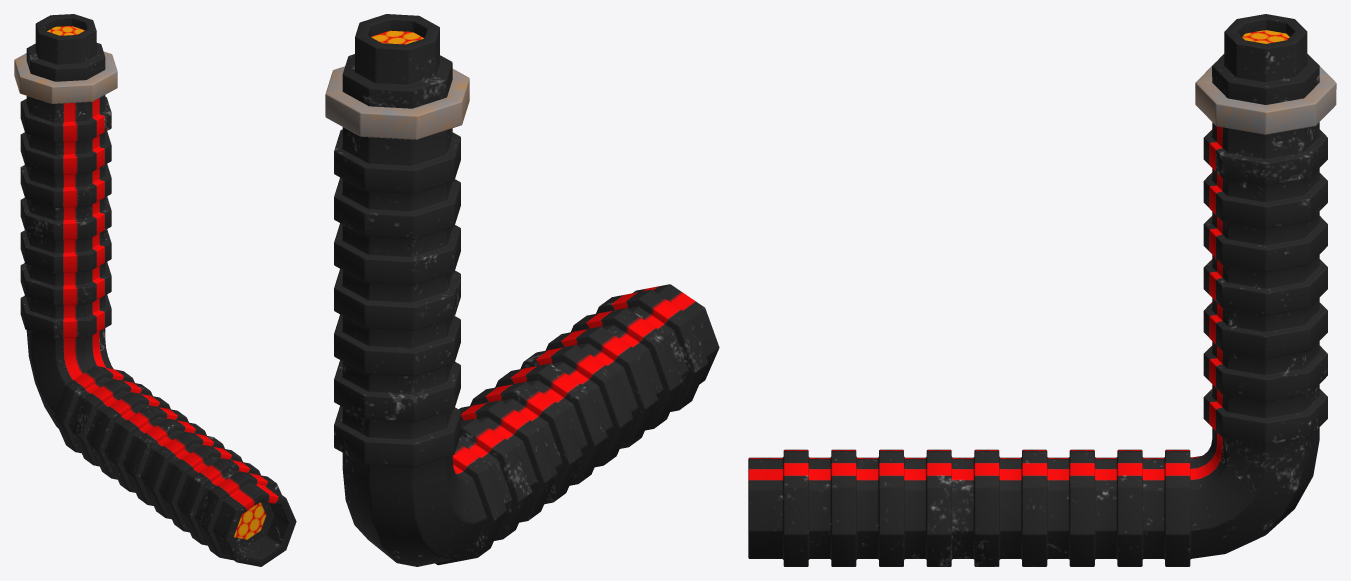
Rendered from cable_codo_arriba.fbx.
The picture shows the model from 3 angles, left to right: view 1: azimuth 30°, elevation 25°; view 2: azimuth 150°, elevation 25°; view 3: azimuth 270°, elevation 25°; orthographic projection. The views are drawn at different scales.
Visible parts, largest first — view 1: cable_codo_rojo_arriba; view 2: cable_codo_rojo_arriba; view 3: cable_codo_rojo_arriba.
Part boxes in pixels (x1,y1,x2,y2): cable_codo_rojo_arriba: [14, 14, 296, 566]; cable_codo_rojo_arriba: [325, 14, 719, 566]; cable_codo_rojo_arriba: [748, 14, 1336, 566].
Size of the model in its own units: 52.19 by 218 by 218.
